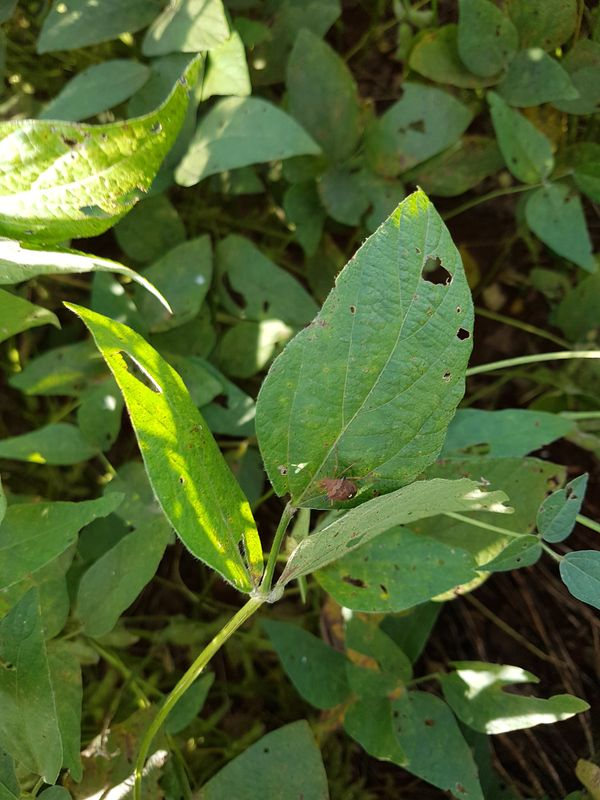Euschistus_heros_adulto: (308, 452, 374, 517)
